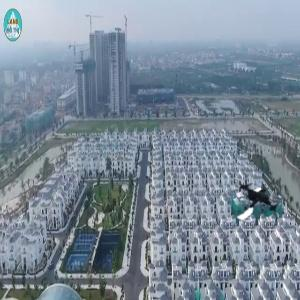drone: (227, 173, 285, 231)
